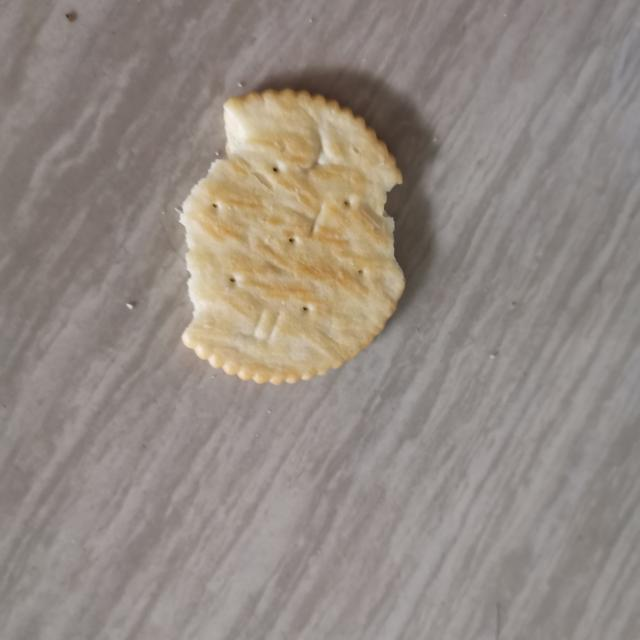Broken: (177, 86, 407, 386)
